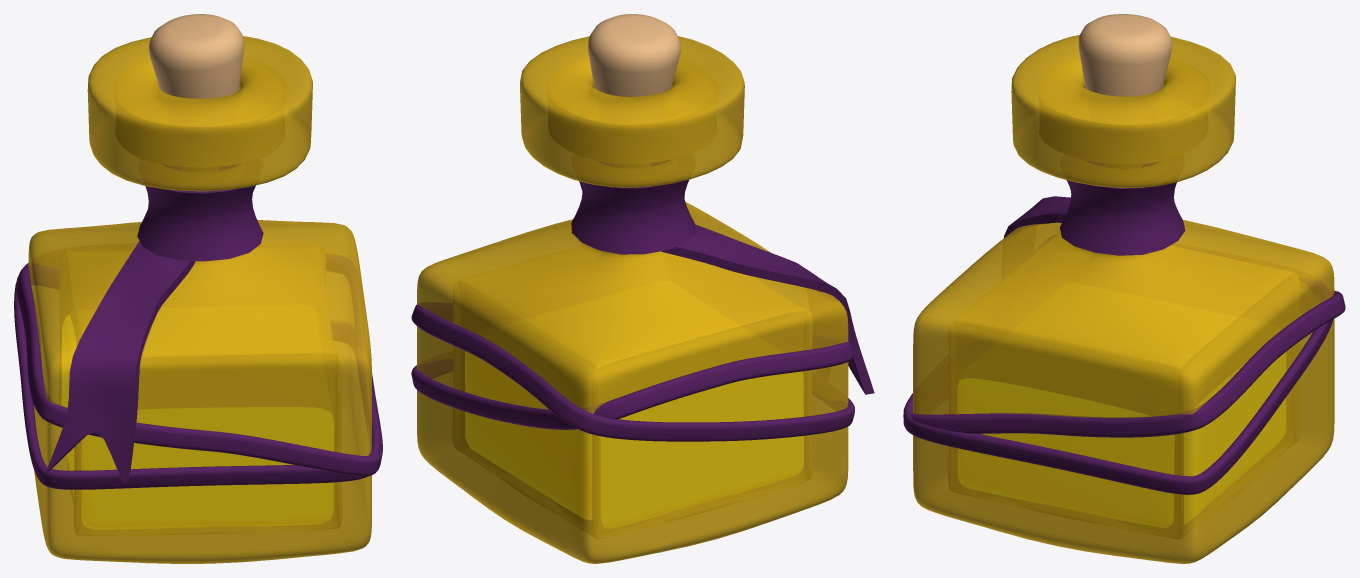
File: Potion4.fbx
The picture shows the model from 3 angles, left to right: view 1: azimuth 30°, elevation 25°; view 2: azimuth 150°, elevation 25°; view 3: azimuth 270°, elevation 25°; orthographic projection. The views are drawn at different scales.
Visible parts, largest first — view 1: bottle.002, contents.003, strip2.002, ribbon2.004, ribbon2.003, strip1.002, cork.002; view 2: bottle.002, contents.003, ribbon2.004, ribbon2.003, strip1.002, cork.002, strip2.002; view 3: bottle.002, contents.003, ribbon2.004, ribbon2.003, strip1.002, cork.002, strip2.002.
Boxes of the visible parts, x1,y1,x2,y2 form: bottle.002: (28, 36, 371, 563); contents.003: (62, 315, 333, 529); strip2.002: (46, 240, 196, 484); ribbon2.004: (14, 254, 381, 489); ribbon2.003: (16, 265, 382, 476); strip1.002: (137, 165, 263, 261); cork.002: (149, 14, 244, 98); bottle.002: (417, 36, 848, 563); contents.003: (465, 351, 803, 528); ribbon2.004: (411, 303, 854, 441); ribbon2.003: (411, 334, 854, 429); strip1.002: (571, 160, 695, 254); cork.002: (588, 14, 680, 96); strip2.002: (661, 224, 874, 394); bottle.002: (913, 35, 1334, 563); contents.003: (957, 352, 1285, 527); ribbon2.004: (910, 291, 1345, 437); ribbon2.003: (903, 235, 1333, 494); strip1.002: (1060, 161, 1185, 255); cork.002: (1078, 14, 1171, 96); strip2.002: (1004, 196, 1070, 237).
Size of the model in its own units: 260 by 302 by 259.
